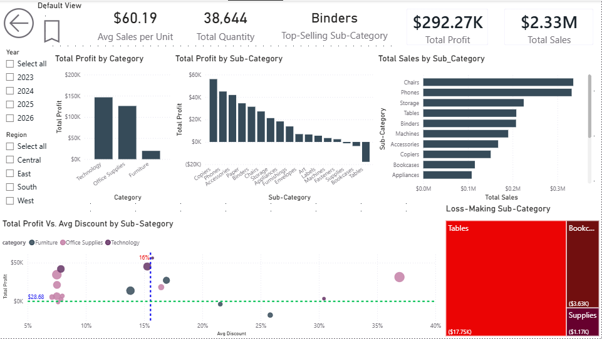

The dashboard page shown, as its layout file describes it:
{"tool":"powerbi","page":{"name":"Product Analysis","canvas":[1280,720],"ordinal":2},"visuals":[{"type":"cardVisual","title":"Total Sales","fields":{"Data":["superstore_cleaned.Total Sales"]},"box":[1056,0,224,112],"z":0},{"type":"cardVisual","title":"Net Profit","fields":{"Data":["calendar.Net Profit"]},"box":[848,0,208,112],"z":1000},{"type":"card","fields":{"Values":["superstore_cleaned.Total Quantity"]},"box":[384,0,192,96],"z":2000},{"type":"card","fields":{"Values":["superstore_cleaned.Avg Selling Price"]},"box":[192,0,192,96],"z":3000},{"type":"barChart","title":"Total Sales by Sub_Category","fields":{"Category":["superstore_cleaned.sub_category"],"Y":["superstore_cleaned.Total Sales"]},"box":[800,112,464,320],"z":4000},{"type":"clusteredColumnChart","title":"Total Profit by Sub-Category","fields":{"Category":["superstore_cleaned.sub_category"],"Y":["superstore_cleaned.Total Profit"]},"box":[368,112,432,320],"z":5000},{"type":"treemap","title":"Loss-Making Sub-Category","fields":{"Values":["superstore_cleaned.Total Profit"],"Group":["superstore_cleaned.sub_category"]},"box":[944,432,336,288],"z":6000},{"type":"scatterChart","title":"Total Profit Vs. Avg Discount by Sub-Sategory ","fields":{"Category":["superstore_cleaned.sub_category"],"Series":["superstore_cleaned.category"],"Size":["superstore_cleaned.Total Quantity"],"X":["superstore_cleaned.Avg Discount"],"Y":["superstore_cleaned.Total Profit"]},"box":[0,464,944,256],"z":7000},{"type":"columnChart","title":"Total Profit by Category","fields":{"Y":["superstore_cleaned.Total Profit"],"Category":["superstore_cleaned.category"]},"box":[112,112,256,320],"z":8000},{"type":"card","fields":{"Values":["Min(superstore_cleaned.sub_category)"]},"box":[576,0,272,96],"z":9000},{"type":"slicer","fields":{"Values":["superstore_cleaned.year"]},"box":[0,96,112,176],"z":10000},{"type":"slicer","fields":{"Values":["superstore_cleaned.region"]},"box":[0,272,112,192],"z":11000},{"type":"actionButton","title":"Default View","box":[80,0,112,96],"z":11001},{"type":"actionButton","box":[0,0,80,96],"z":11002}]}

Visuals, with their boxes in screenshot pixels (x1, y1, x2, y2), scaled from the page's 1280x720 canvas onto the 602x339 screenshot:
"Total Sales" cardVisual: (497, 0, 601, 53)
"Net Profit" cardVisual: (399, 0, 497, 53)
card - superstore_cleaned.Total Quantity: (181, 0, 271, 45)
card - superstore_cleaned.Avg Selling Price: (90, 0, 181, 45)
"Total Sales by Sub_Category" barChart: (376, 53, 594, 203)
"Total Profit by Sub-Category" clusteredColumnChart: (173, 53, 376, 203)
"Loss-Making Sub-Category" treemap: (444, 203, 601, 338)
"Total Profit Vs. Avg Discount by Sub-Sategory " scatterChart: (0, 218, 444, 338)
"Total Profit by Category" columnChart: (53, 53, 173, 203)
card - Min(superstore_cleaned.sub_category): (271, 0, 399, 45)
slicer - superstore_cleaned.year: (0, 45, 53, 128)
slicer - superstore_cleaned.region: (0, 128, 53, 218)
"Default View" actionButton: (38, 0, 90, 45)
actionButton: (0, 0, 38, 45)
